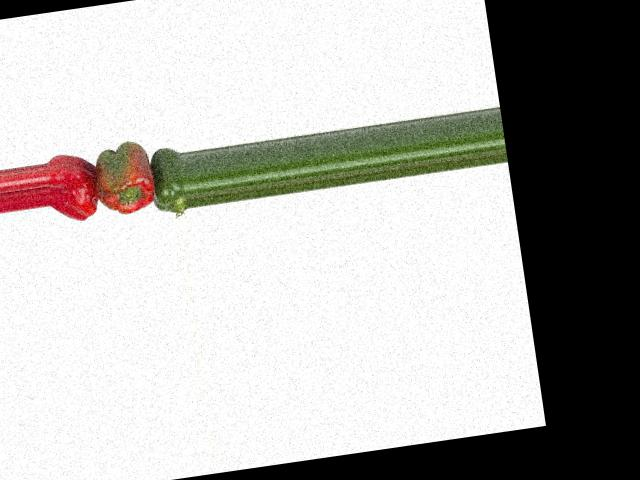bell_pepper: (43, 146, 104, 230)
